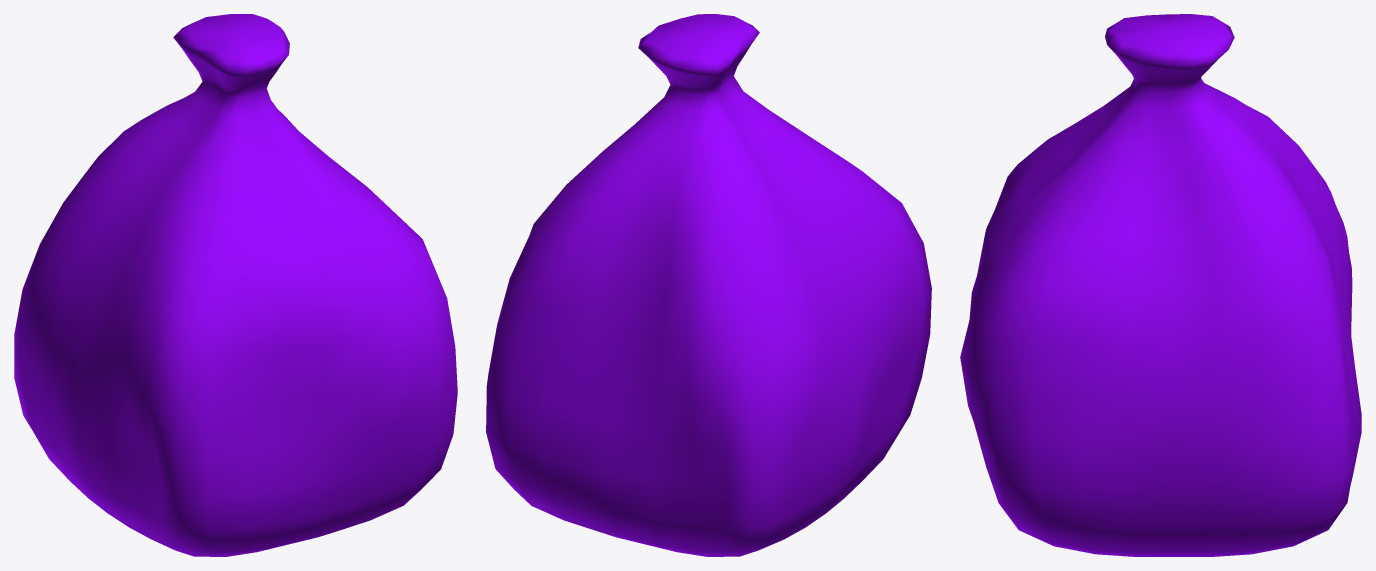
Rendered from umgebung_muellsack_low 1.FBX.
The picture shows the model from 3 angles, left to right: view 1: azimuth 30°, elevation 25°; view 2: azimuth 150°, elevation 25°; view 3: azimuth 270°, elevation 25°; orthographic projection. The views are drawn at different scales.
Visible parts, largest first — view 1: o_muellsack_low; view 2: o_muellsack_low; view 3: o_muellsack_low.
Part boxes in pixels (x1=…): o_muellsack_low: x1=14, y1=14, x2=457, y2=556; o_muellsack_low: x1=486, y1=14, x2=931, y2=556; o_muellsack_low: x1=960, y1=14, x2=1361, y2=556.
Size of the model in its own units: 94.95 by 143 by 103.
